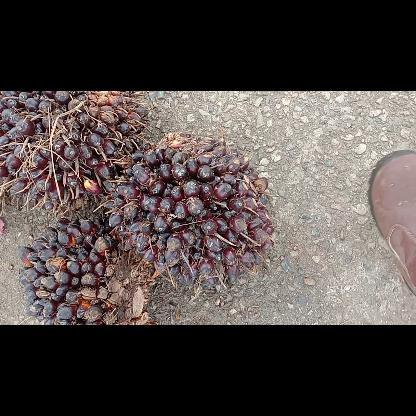TBS mentah: (100, 132, 272, 286), (0, 91, 146, 211), (18, 218, 150, 324)
